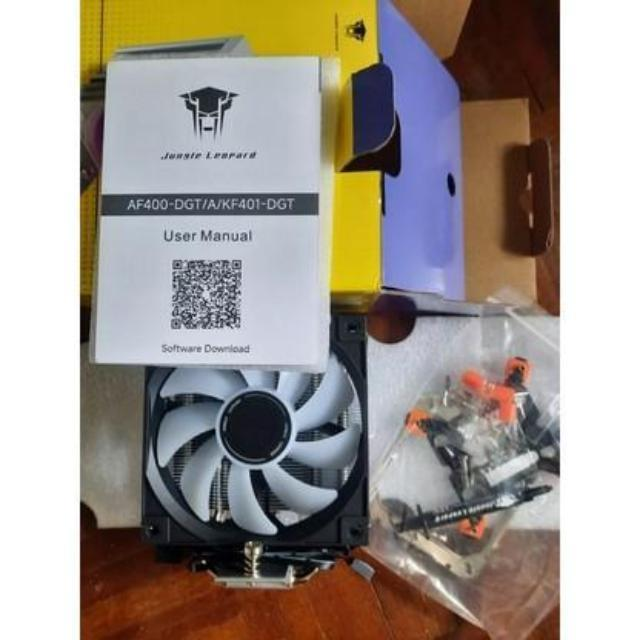CPU_Fan: (144, 323, 370, 585)
